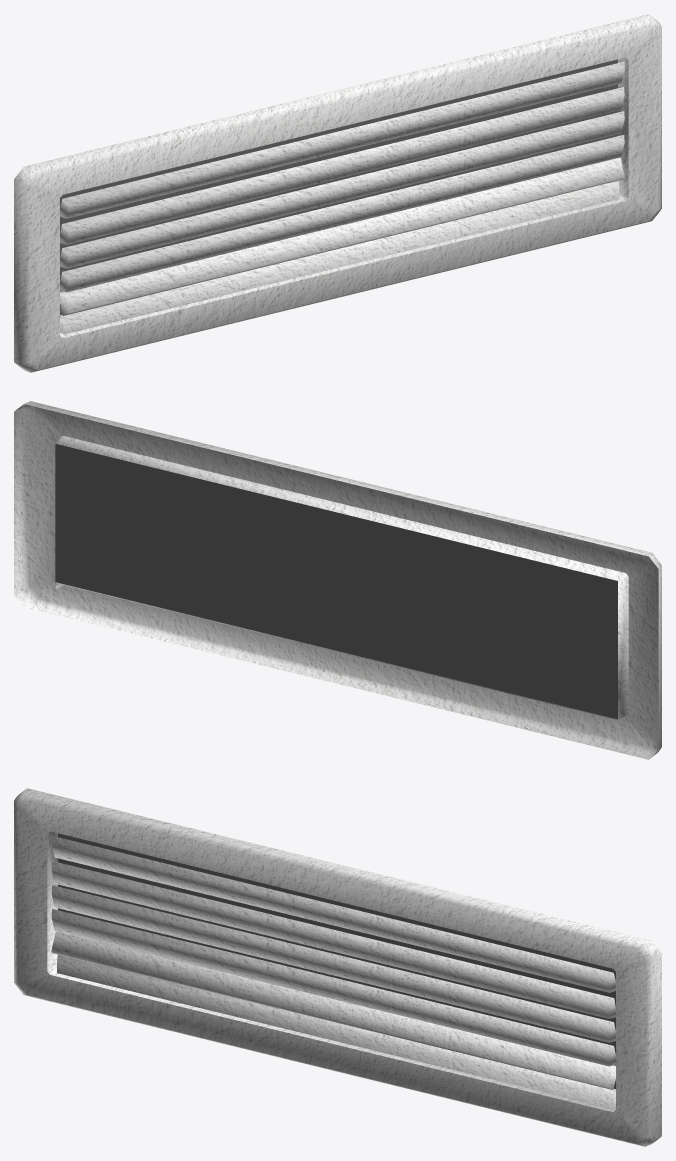
Rendered from OR_Ventilation.fbx.
3 renders of one model, top to bottom at view 1: azimuth 30°, elevation 25°; view 2: azimuth 150°, elevation 25°; view 3: azimuth 330°, elevation 25°, orthographic.
Parts seen in each view (by area): view 1: OR_Ventilation; view 2: OR_Ventilation; view 3: OR_Ventilation.
Boxes of the visible parts, x1,y1,x2,y2 form: OR_Ventilation: [14, 14, 661, 372]; OR_Ventilation: [14, 401, 661, 759]; OR_Ventilation: [14, 788, 661, 1146].
Bounding box in the file's own units: 69.78 × 21.03 × 2.05.
